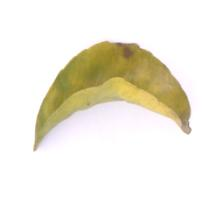black spot: (109, 43, 145, 63)
